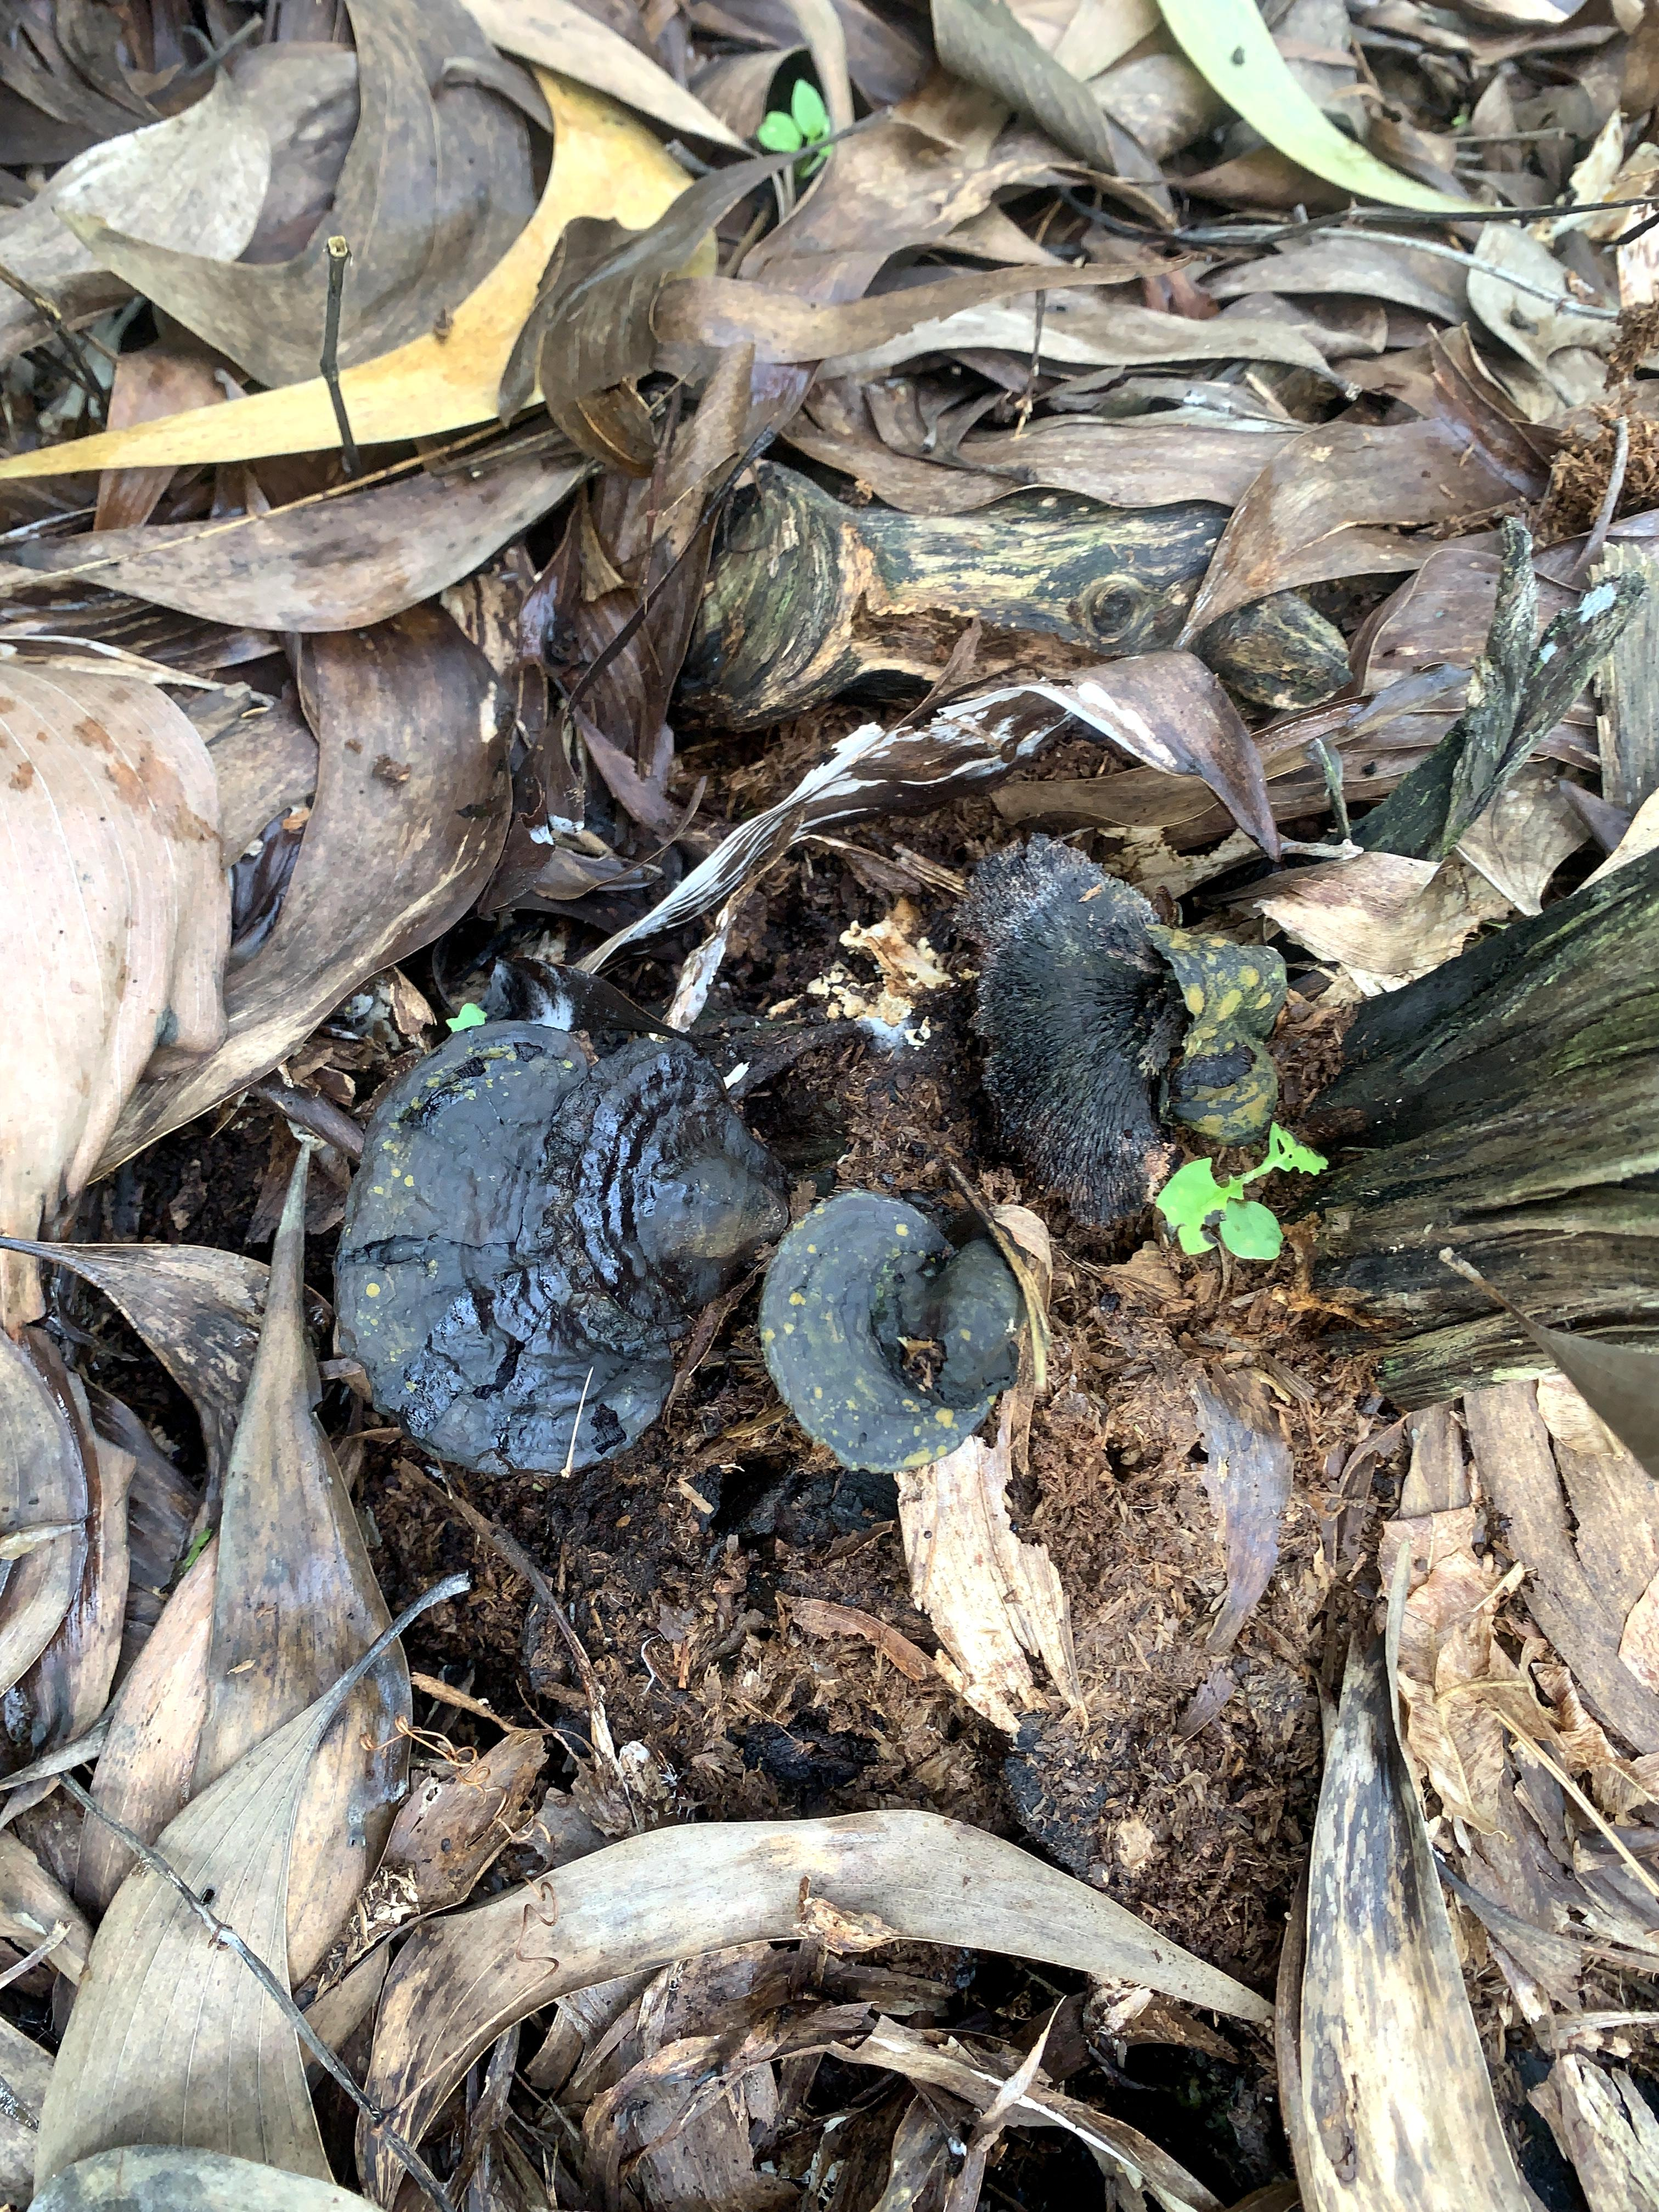Ganoderma - Fruit Body: (272, 944, 796, 1512), (953, 833, 1201, 1237), (758, 1167, 1014, 1460)
